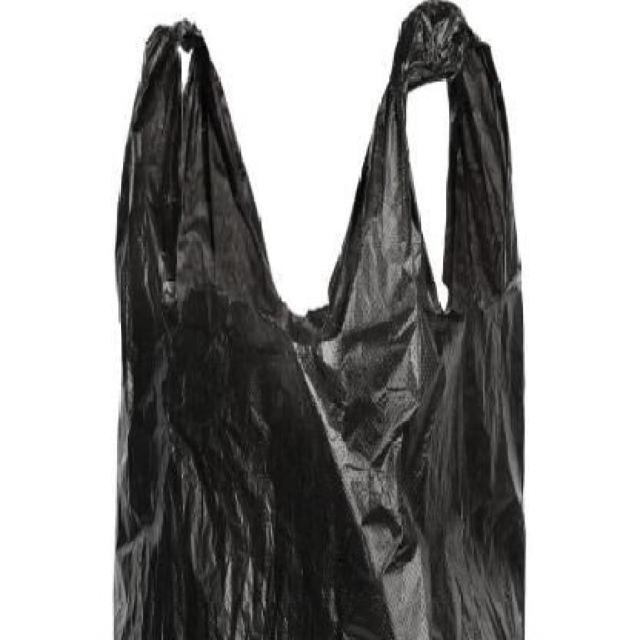plastic bag: (80, 16, 557, 638)
